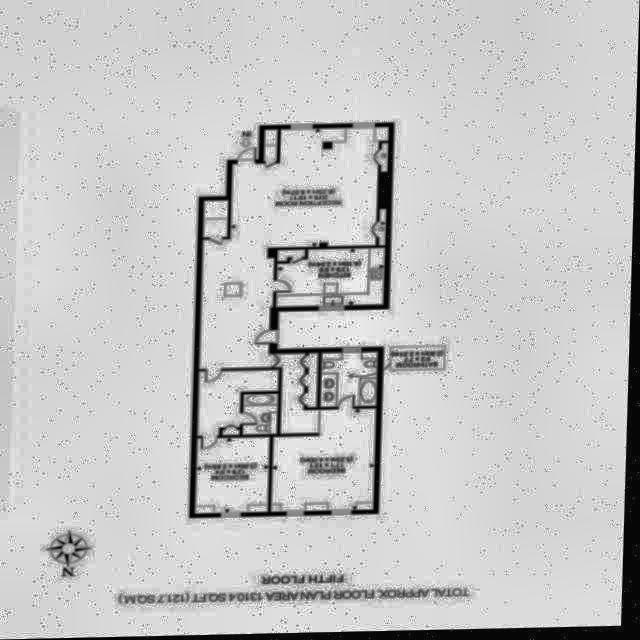room: (191, 110, 391, 386), (272, 354, 380, 515), (279, 251, 388, 308), (199, 438, 274, 516), (200, 370, 281, 437), (325, 355, 381, 409), (245, 394, 281, 437), (205, 200, 229, 239), (265, 130, 278, 164), (380, 210, 388, 248), (382, 145, 389, 174)
